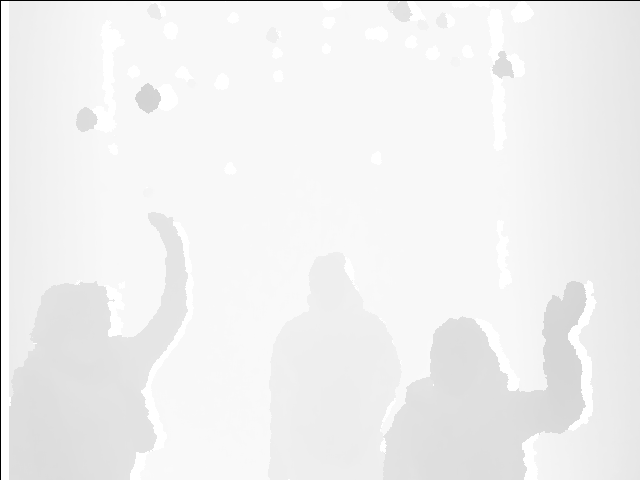hand: (539, 279, 588, 337), (144, 209, 180, 243)
